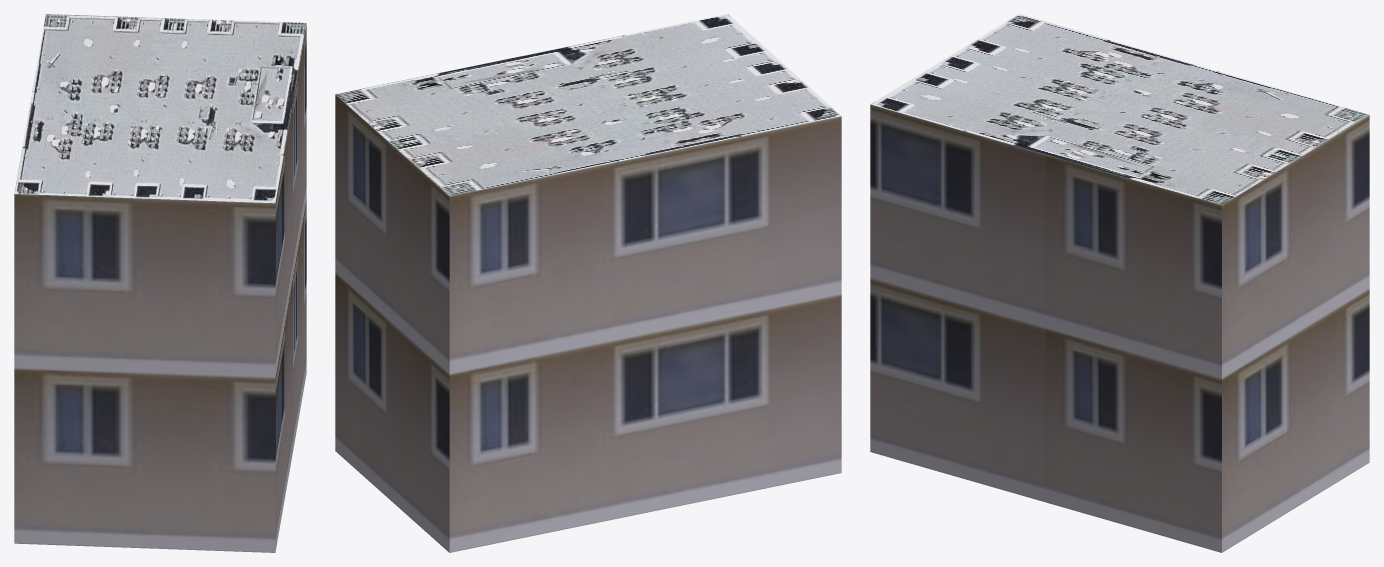
The model's file is ResTex__3850.fbx.
The picture shows the model from 3 angles, left to right: view 1: azimuth 30°, elevation 25°; view 2: azimuth 150°, elevation 25°; view 3: azimuth 270°, elevation 25°; orthographic projection. The views are drawn at different scales.
Parts seen in each view (by area): view 1: CityEngineMaterial_21_m, CityEngineMaterial_4_m; view 2: CityEngineMaterial_21_m, CityEngineMaterial_4_m; view 3: CityEngineMaterial_21_m, CityEngineMaterial_4_m.
Boxes of the visible parts, x1,y1,x2,y2 form: CityEngineMaterial_21_m: [14, 24, 306, 552]; CityEngineMaterial_4_m: [14, 14, 306, 203]; CityEngineMaterial_21_m: [335, 94, 841, 552]; CityEngineMaterial_4_m: [335, 14, 841, 196]; CityEngineMaterial_21_m: [870, 104, 1369, 552]; CityEngineMaterial_4_m: [870, 14, 1369, 205].
Bounding box in the file's own units: 7.08 × 6 × 7.82.
2 materials, 2 textured.
